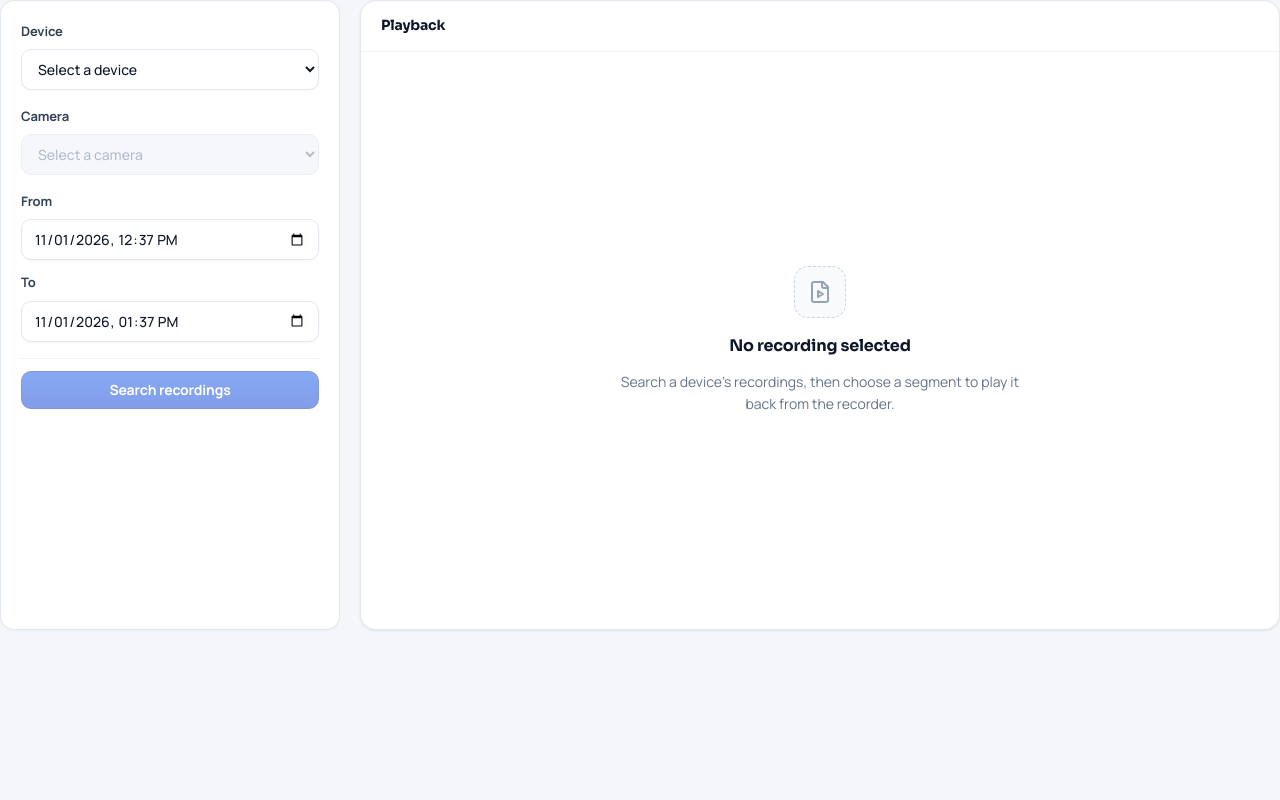
Test: RecordingsPage (ADR-0044) › says it is waiting while the device has not answered
Select "TERM12345678 — LSZ LSZ-C5804DG-Q-F" in the dropdown labelled "Device". click: (170, 70)
box: [21,49,319,90]
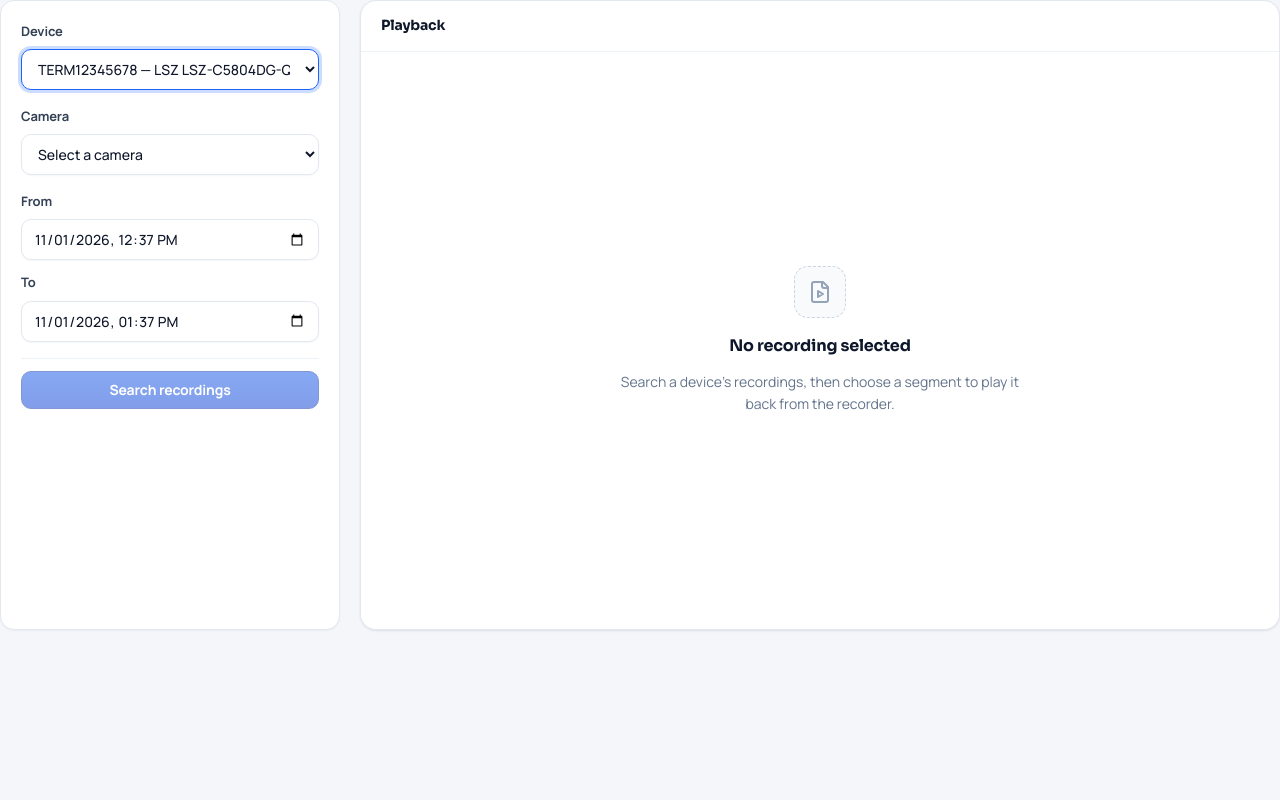
Select "Front (road_facing)" in the dropdown labelled "Camera". click: (170, 155)
box: [21,134,319,175]
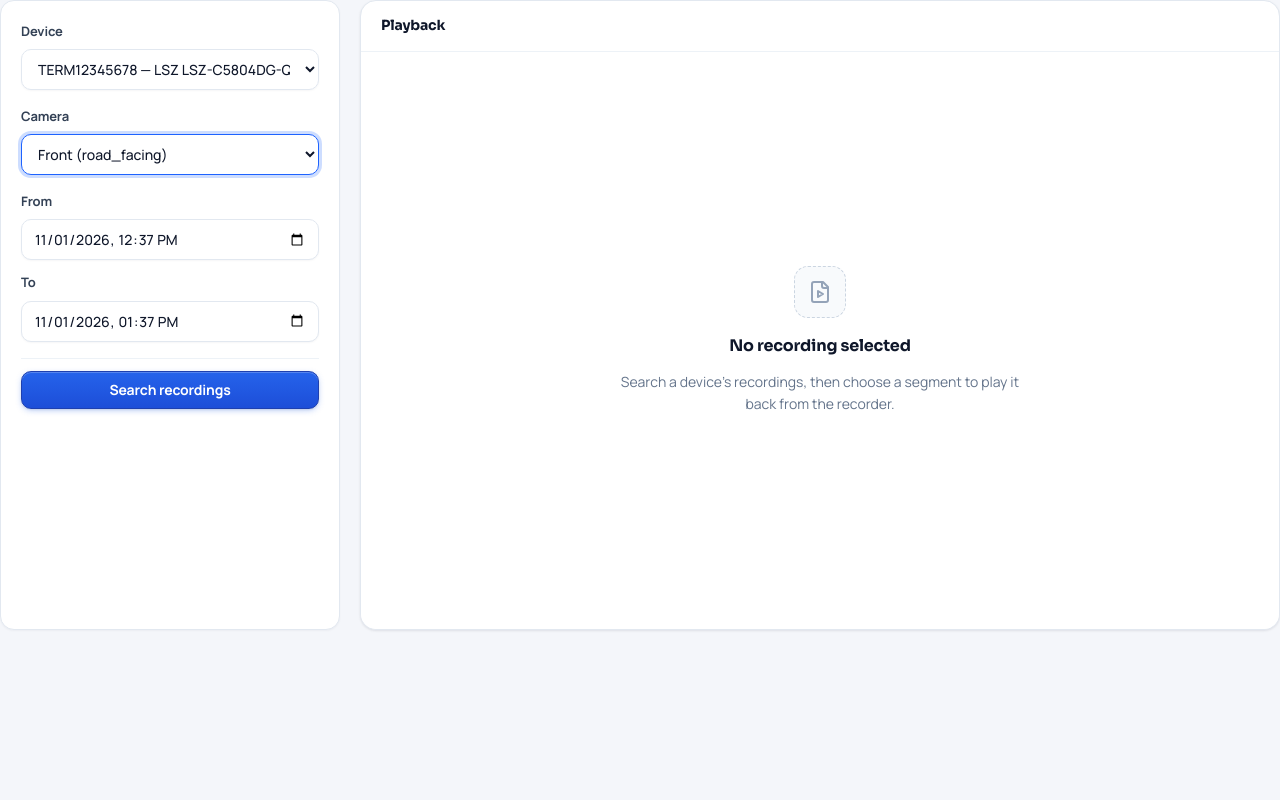
Click the button "Search recordings". click: (170, 390)
box: [21,371,319,409]
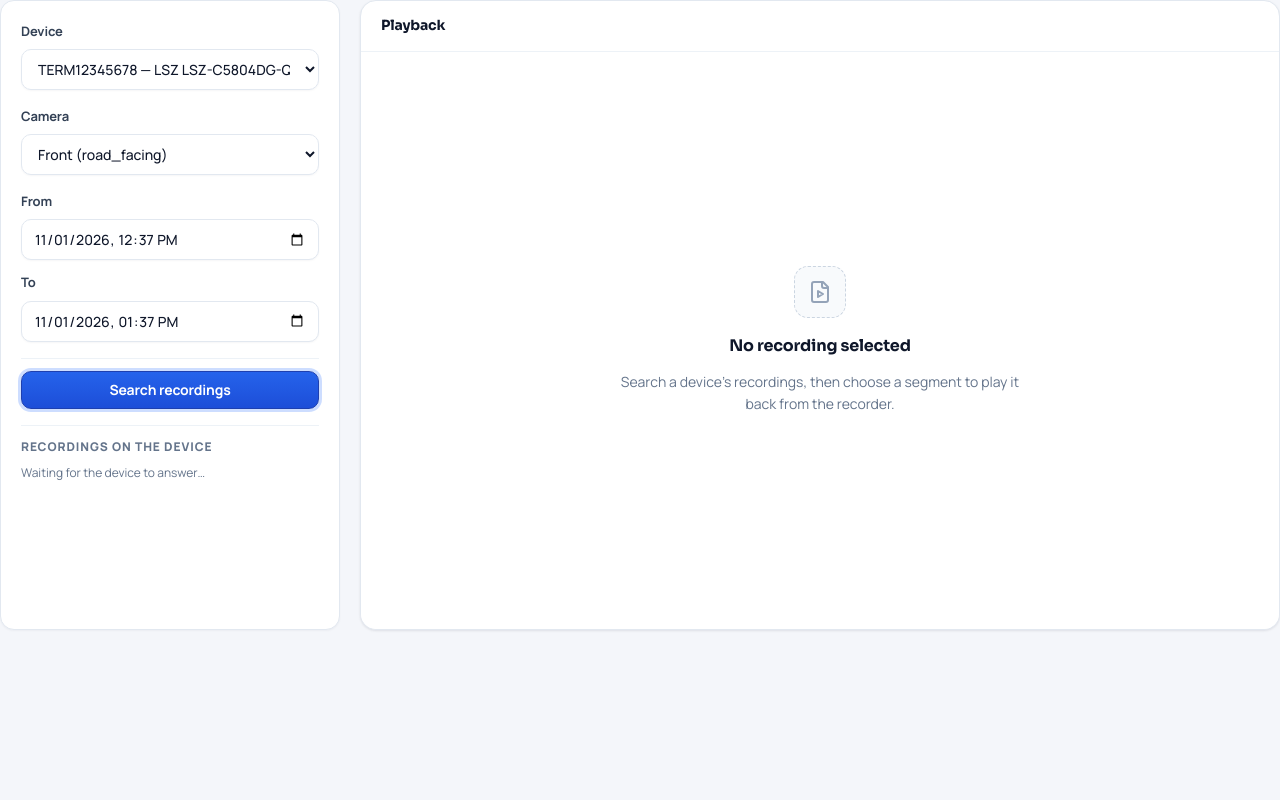
Expected: the text "Waiting for the device to answer…" is shown, [21,464,205,481]
